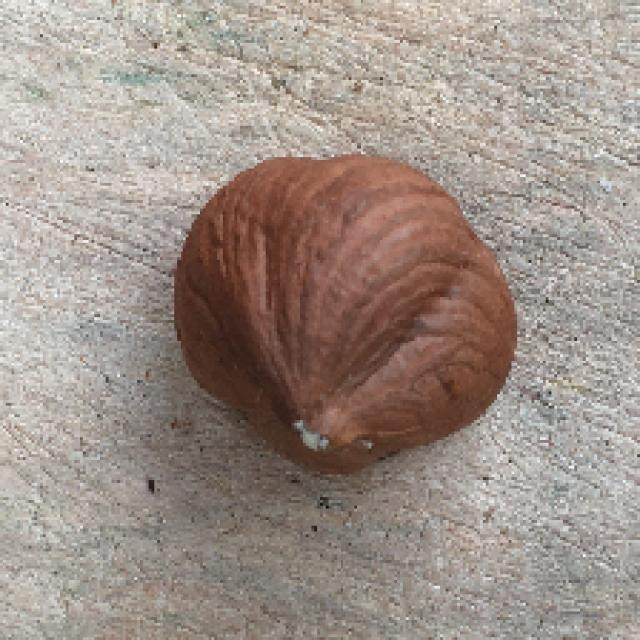hazelnut: (175, 136, 523, 476)
